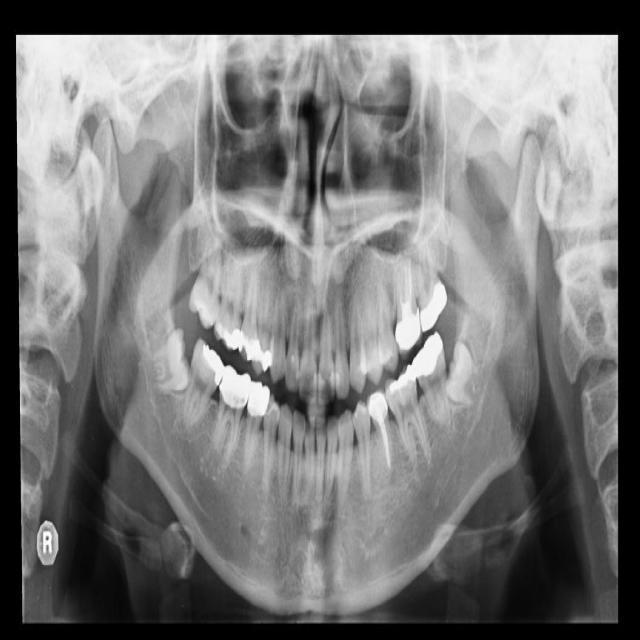Crown: (412, 333, 443, 380), (395, 307, 422, 360), (220, 366, 250, 409), (367, 386, 389, 427), (249, 381, 270, 417)
Filling: (419, 282, 447, 332), (198, 345, 224, 384), (386, 365, 417, 394), (216, 320, 241, 348), (190, 293, 212, 324), (239, 331, 259, 359), (254, 343, 272, 370)
Root Canal Treatment: (381, 428, 391, 475), (403, 258, 408, 290), (409, 254, 415, 280), (394, 280, 398, 305)
impacted tooth: (142, 329, 188, 391), (447, 342, 484, 411)
